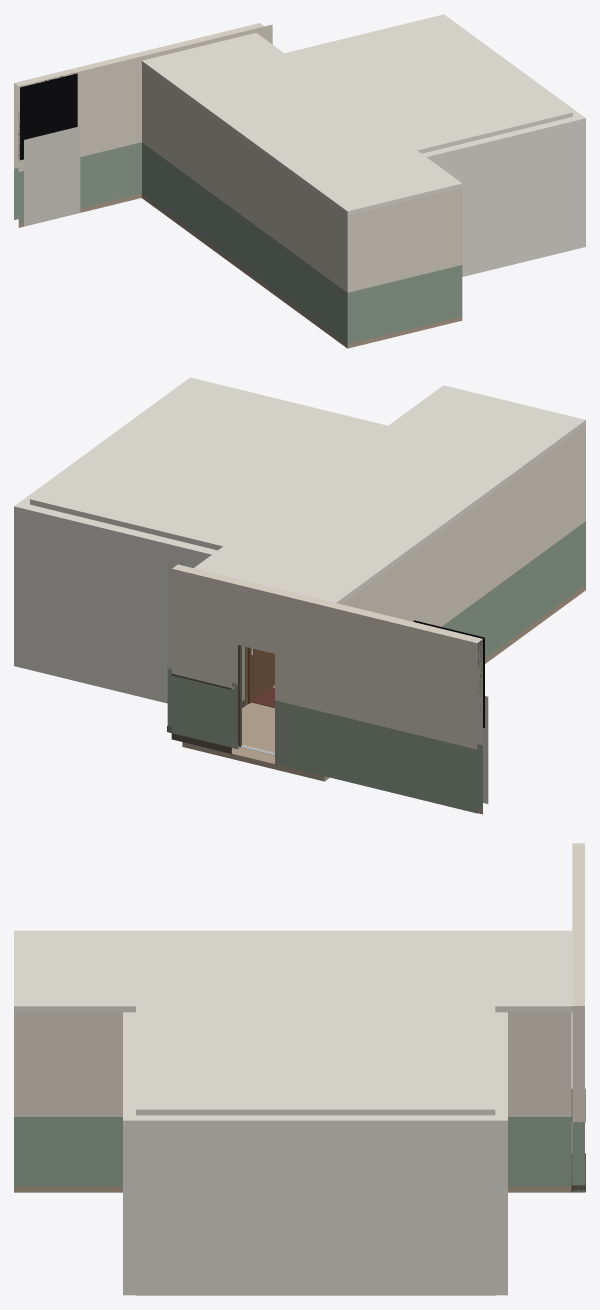
Rendered from Kat1.fbx.
The picture shows the model from 3 angles, top to bottom: view 1: azimuth 30°, elevation 25°; view 2: azimuth 150°, elevation 25°; view 3: azimuth 270°, elevation 25°; orthographic projection. The views are drawn at different scales.
Visible parts, largest first — view 1: Kat1Koridor, Kat1Market; view 2: Kat1Koridor, Kat1Market; view 3: Kat1Market, Kat1Koridor.
Part boxes in pixels (x1=…): Kat1Koridor: x1=14, y1=23, x2=462, y2=348; Kat1Market: x1=285, y1=14, x2=585, y2=276; Kat1Koridor: x1=167, y1=385, x2=585, y2=814; Kat1Market: x1=14, y1=377, x2=387, y2=703; Kat1Market: x1=123, y1=1006, x2=507, y2=1295; Kat1Koridor: x1=14, y1=843, x2=585, y2=1192.
Size of the model in its own units: 9.8 by 3.3 by 8.92.
